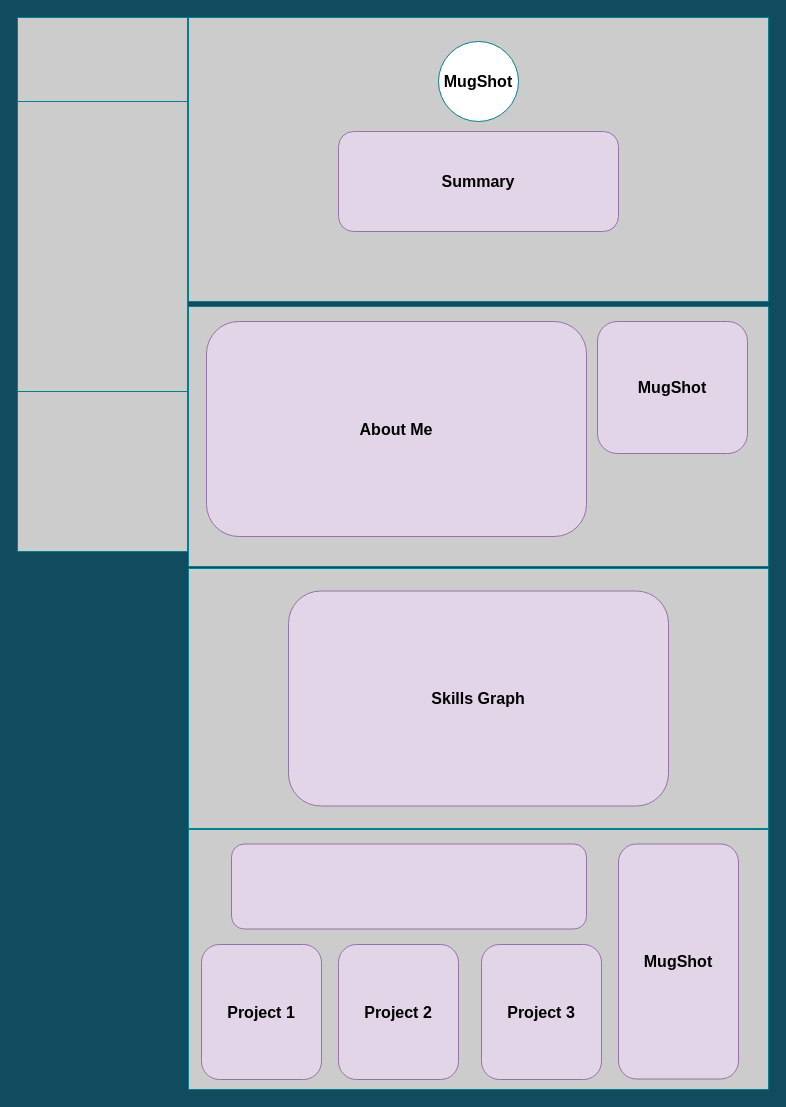
Image size: 786x1107. Some labels were removed from this diagram. The box of each missing label's shape, as (x1, y1, x2, y2) in pixels:
Contact: (16, 390, 188, 552)
Logo: (16, 16, 188, 102)
Nav: (16, 100, 188, 392)
Portfolio: (230, 843, 586, 929)
